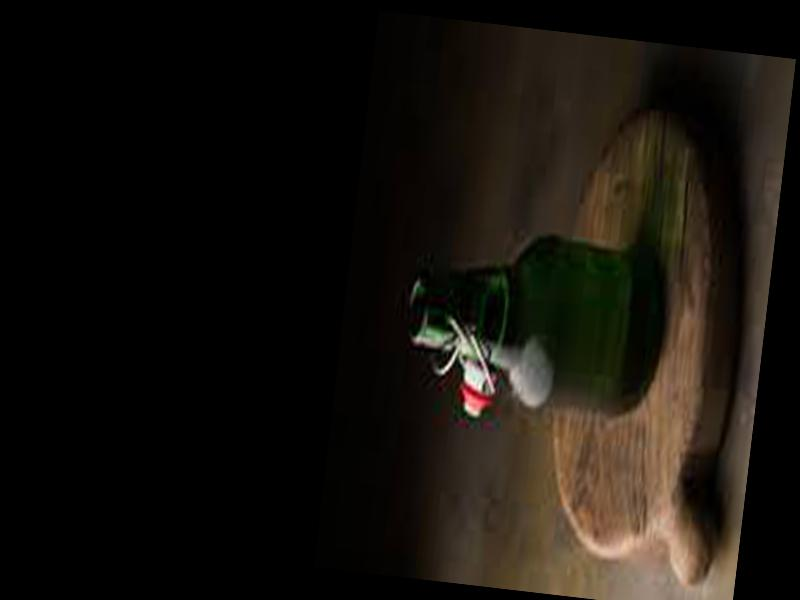Beer: (396, 227, 665, 419)
